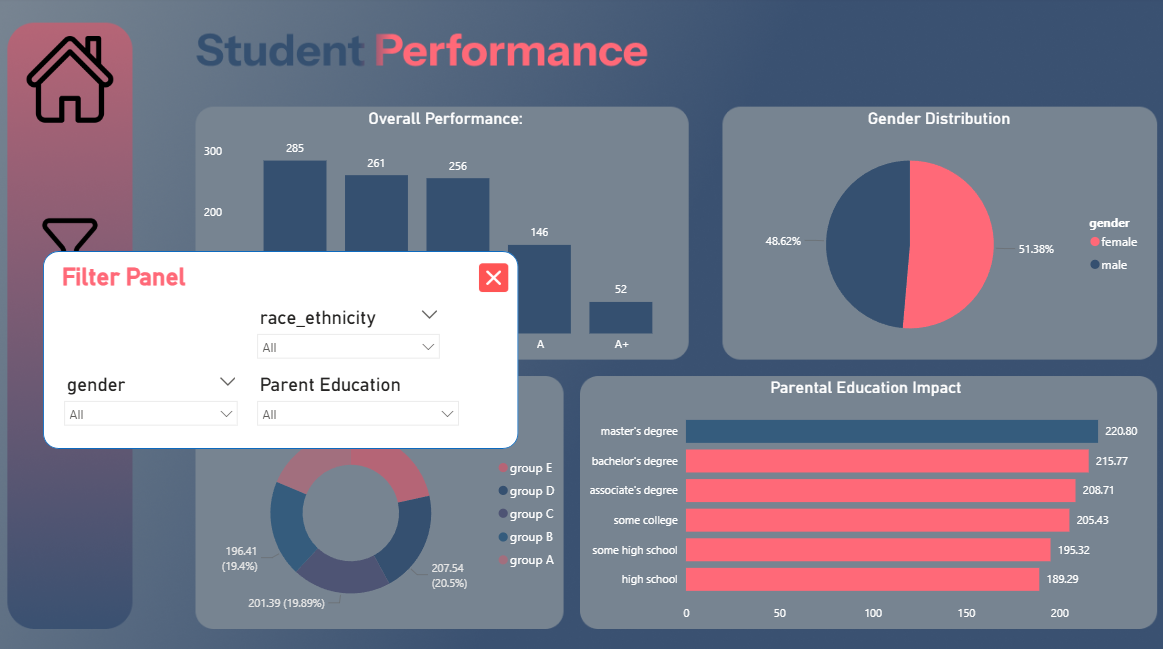

What the dashboard file says about the page in this screenshot:
{"tool":"powerbi","page":{"name":"Page 1","canvas":[1280,720],"ordinal":0},"visuals":[{"type":"barChart","title":"Parental Education Impact","fields":{"Category":["study_performance.parental_level_of_education"],"Y":["Avg(study_performance.Over)"]},"box":[640.8,416.1,626.6,276.9],"z":0},{"type":"pieChart","title":"Gender Distribution","fields":{"Category":["study_performance.gender"],"Y":["Avg(study_performance.Over)"]},"box":[800.6,121.8,466.7,276.9],"z":1000},{"type":"donutChart","title":"Performance Gap","fields":{"Y":["Avg(study_performance.Over)"],"Category":["study_performance.race_ethnicity"]},"box":[223.1,416.1,403.5,276.9],"z":2000},{"type":"columnChart","title":"Overall Performance:","fields":{"Category":["study_performance.Grade"],"Y":["CountNonNull(study_performance.gender)"]},"box":[223.1,121.8,539.5,276.9],"z":3000},{"type":"image","box":[29.6,231,105.1,83.2],"z":4000},{"type":"image","box":[29.2,42.3,105.1,94.9],"z":5001}]}

Visuals, with their boxes in screenshot pixels (x1, y1, x2, y2), scaled from the page's 1280x720 canvas onto the 1163x649 screenshot:
"Parental Education Impact" barChart: {"left": 582, "top": 375, "right": 1152, "bottom": 625}
"Gender Distribution" pieChart: {"left": 727, "top": 110, "right": 1151, "bottom": 359}
"Performance Gap" donutChart: {"left": 203, "top": 375, "right": 569, "bottom": 625}
"Overall Performance:" columnChart: {"left": 203, "top": 110, "right": 693, "bottom": 359}
image: {"left": 27, "top": 208, "right": 122, "bottom": 283}
image: {"left": 27, "top": 38, "right": 122, "bottom": 124}
